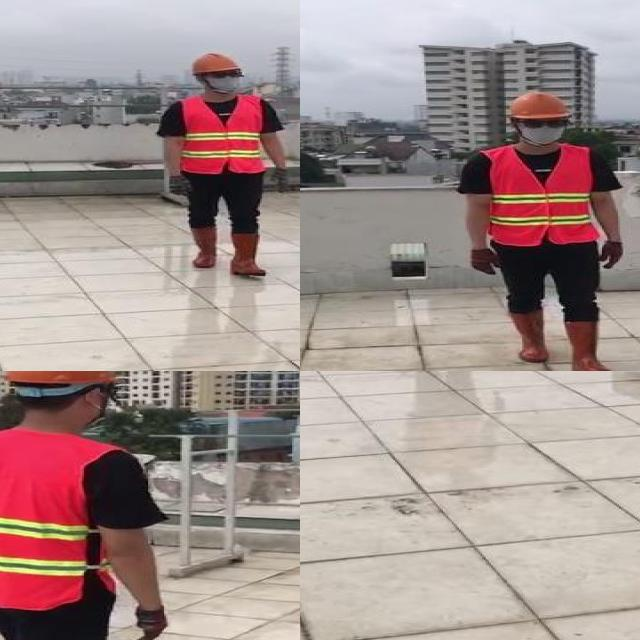boots: (561, 320, 609, 371), (511, 311, 549, 361), (232, 233, 270, 277), (187, 225, 219, 269)
face_mask: (518, 116, 568, 144), (205, 66, 247, 92)
glasses: (520, 116, 568, 131), (204, 69, 245, 81)
hand_glove: (132, 609, 166, 640), (470, 249, 502, 275), (269, 167, 292, 194), (600, 242, 622, 268), (166, 176, 190, 197)
head_helmet: (504, 91, 572, 120), (0, 371, 116, 386), (187, 52, 244, 77)
person: (453, 91, 633, 371), (0, 371, 182, 640), (159, 46, 300, 284)
vest: (0, 431, 111, 609), (483, 147, 604, 246), (180, 94, 264, 173)
